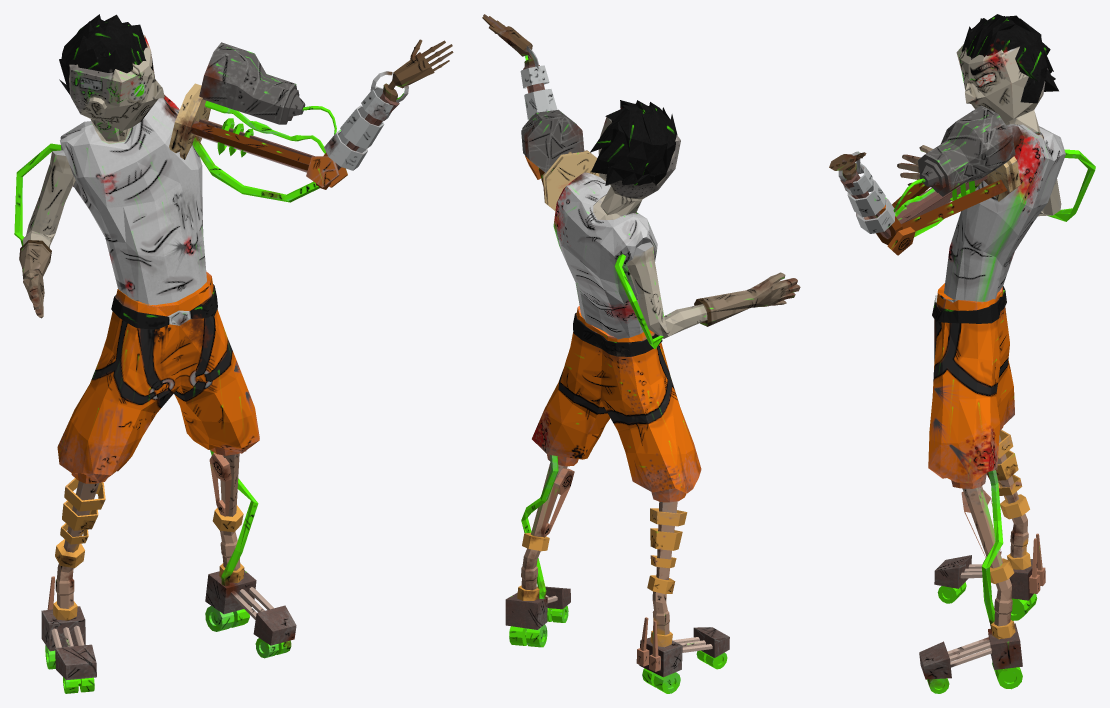
File: CyborgFINALAnimation_000050.obj
3 views of the same model, side by side, from view 1: azimuth 30°, elevation 25°; view 2: azimuth 150°, elevation 25°; view 3: azimuth 270°, elevation 25° (orthographic). The views are drawn at different scales.
Visible parts, largest first — view 1: CyborgMesh_Cube.002; view 2: CyborgMesh_Cube.002; view 3: CyborgMesh_Cube.002.
Boxes of the visible parts, box(x1,y1,x2,y2) form: CyborgMesh_Cube.002: box(14, 14, 453, 693); CyborgMesh_Cube.002: box(482, 14, 800, 693); CyborgMesh_Cube.002: box(829, 14, 1095, 693).
Bounding box in the file's own units: 5.99 × 9.55 × 3.76.
